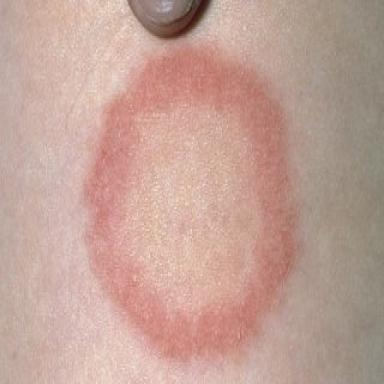Tinea-Corporis: (84, 45, 298, 360)
